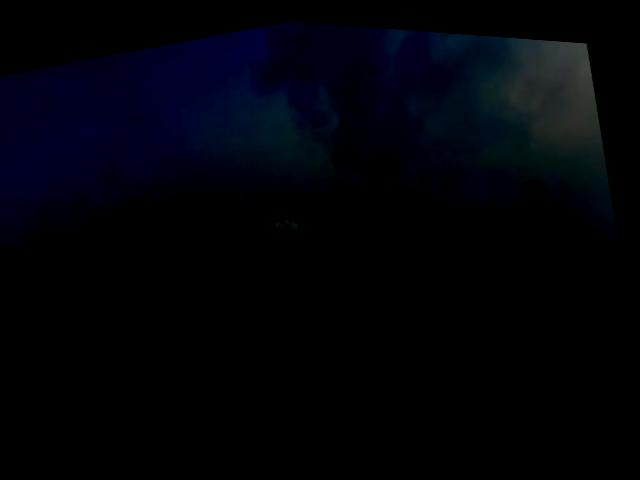iha: (195, 370, 404, 480)
